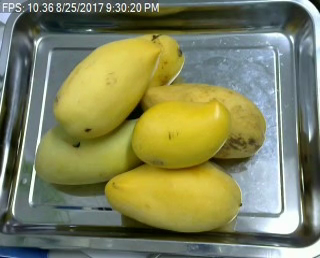Mango: (51, 38, 160, 138), (106, 162, 241, 233), (140, 83, 264, 160), (33, 119, 150, 185), (131, 100, 233, 168), (118, 34, 184, 90)
